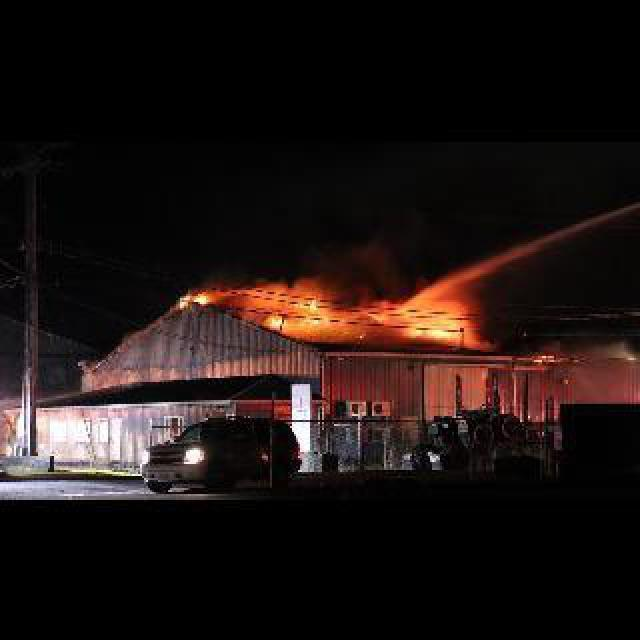Fire: (168, 256, 506, 346)
Smoke: (536, 332, 638, 366)
